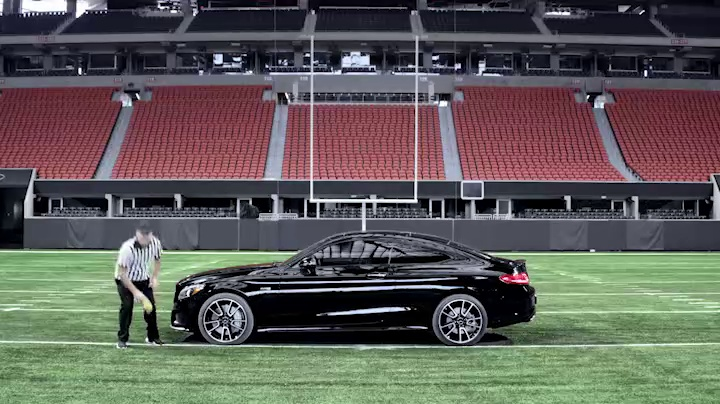amg: (169, 231, 538, 344)
